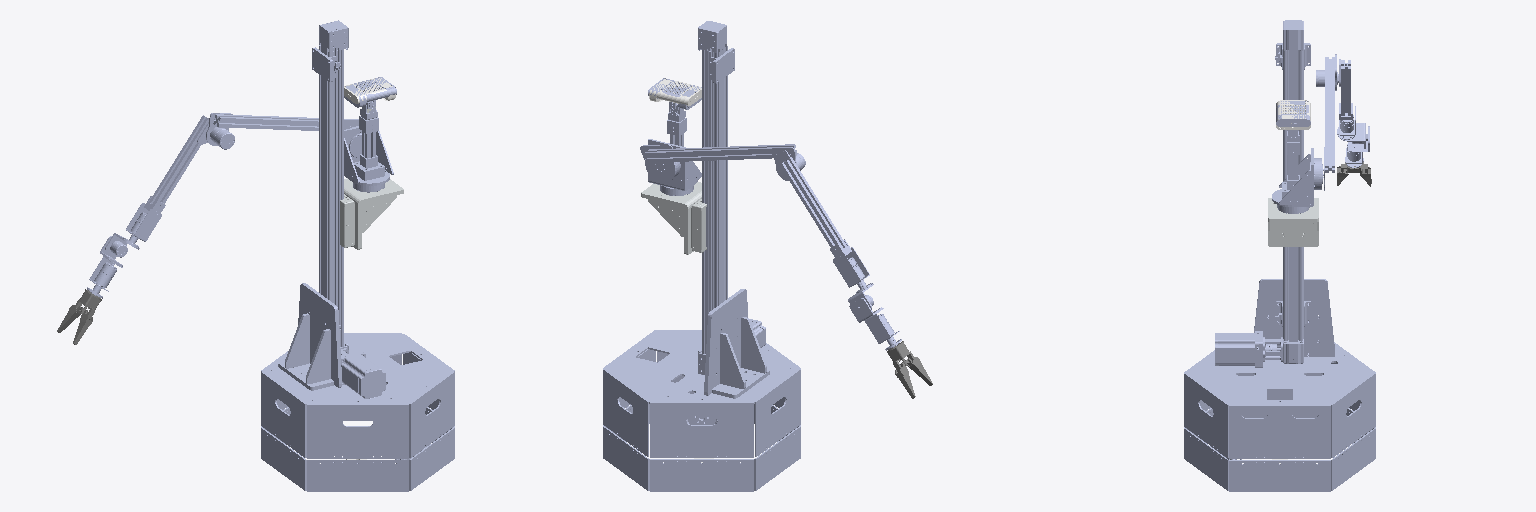
The robot description file, URDF, robot "xm":
<?xml version="1.0" encoding="utf-8"?>
<!-- This URDF was automatically created by SolidWorks to URDF Exporter! Originally created by [author] ([email redacted]) 
     Commit Version: 1.6.0-4-g7f85cfe  Build Version: 1.6.7995.38578
     For more information, please see http://wiki.ros.org/sw_urdf_exporter -->
<robot
  name="xm">
  <link
    name="base_footprint">
    <inertial>
      <origin
        xyz="-5.01303152785115E-18 7.7680154628044E-17 0.0125"
        rpy="0 0 0" />
      <mass
        value="0.0580821353308894" />
      <inertia
        ixx="1.59838183265745E-05"
        ixy="2.02872876666417E-21"
        ixz="4.11954387621188E-21"
        iyy="1.59838183265745E-05"
        iyz="1.27122246921669E-21"
        izz="2.5917414222848E-05" />
    </inertial>
    <visual>
      <origin
        xyz="0 0 0"
        rpy="0 0 0" />
      <geometry>
        <mesh
          filename="package://xm/meshes/base_footprint.STL" />
      </geometry>
      <material
        name="">
        <color
          rgba="1 1 1 1" />
      </material>
    </visual>
    <collision>
      <origin
        xyz="0 0 0"
        rpy="0 0 0" />
      <geometry>
        <mesh
          filename="package://xm/meshes/base_footprint.STL" />
      </geometry>
    </collision>
  </link>
  <link
    name="base_link">
    <inertial>
      <origin
        xyz="-0.0472990780841658 0.00149970063054384 0.389481124264068"
        rpy="0 0 0" />
      <mass
        value="20.4085866375092" />
      <inertia
        ixx="0.532150836421131"
        ixy="-0.000215444412448699"
        ixz="-0.000167302292495627"
        iyy="0.520347966012744"
        iyz="-5.41814451197991E-05"
        izz="0.0912444992532894" />
    </inertial>
    <visual>
      <origin
        xyz="0 0 0"
        rpy="0 0 0" />
      <geometry>
        <mesh
          filename="package://xm/meshes/base_link.STL" />
      </geometry>
      <material
        name="">
        <color
          rgba="0.792156862745098 0.819607843137255 0.933333333333333 1" />
      </material>
    </visual>
    <collision>
      <origin
        xyz="0 0 0"
        rpy="0 0 0" />
      <geometry>
        <mesh
          filename="package://xm/meshes/base_link.STL" />
      </geometry>
    </collision>
  </link>
  <joint
    name="Joint_base"
    type="fixed">
    <origin
      xyz="0 0 0.1072"
      rpy="0 0 0" />
    <parent
      link="base_footprint" />
    <child
      link="base_link" />
    <axis
      xyz="0 0 0" />
  </joint>
  <link
    name="camera_link">
    <inertial>
      <origin
        xyz="-0.000613033670759142 1.66444834874616E-05 0.0388070563329279"
        rpy="0 0 0" />
      <mass
        value="0.139637392959197" />
      <inertia
        ixx="0.000155562292282568"
        ixy="1.00340561932936E-07"
        ixz="5.24915196445147E-06"
        iyy="0.000170557108366225"
        iyz="-2.47432288257118E-08"
        izz="0.00029782380105245" />
    </inertial>
    <visual>
      <origin
        xyz="0 0 0"
        rpy="0 0 0" />
      <geometry>
        <mesh
          filename="package://xm/meshes/camera_link.STL" />
      </geometry>
      <material
        name="">
        <color
          rgba="1 1 1 1" />
      </material>
    </visual>
    <collision>
      <origin
        xyz="0 0 0"
        rpy="0 0 0" />
      <geometry>
        <mesh
          filename="package://xm/meshes/camera_link.STL" />
      </geometry>
    </collision>
  </link>
  <joint
    name="camera_joint"
    type="fixed">
    <origin
      xyz="0.0587580646472571 0.0400000002558185 1.03774998426436"
      rpy="0 0 0" />
    <parent
      link="base_link" />
    <child
      link="camera_link" />
    <axis
      xyz="0 0 0" />
  </joint>
  <link
    name="lift_link">
    <inertial>
      <origin
        xyz="0.0166996329019968 -1.86426624723401E-05 -0.0174470051490163"
        rpy="0 0 0" />
      <mass
        value="2.62405552037634" />
      <inertia
        ixx="0.00900096288286579"
        ixy="-4.0745611018335E-07"
        ixz="0.00197504590342764"
        iyy="0.00823583995903269"
        iyz="-2.14600844721825E-09"
        izz="0.00769632084461953" />
    </inertial>
    <visual>
      <origin
        xyz="0 0 0"
        rpy="0 0 0" />
      <geometry>
        <mesh
          filename="package://xm/meshes/lift_link.STL" />
      </geometry>
      <material
        name="">
        <color
          rgba="0.898039215686275 0.917647058823529 0.929411764705882 1" />
      </material>
    </visual>
    <collision>
      <origin
        xyz="0 0 0"
        rpy="0 0 0" />
      <geometry>
        <mesh
          filename="package://xm/meshes/lift_link.STL" />
      </geometry>
    </collision>
  </link>
  <joint
    name="lift_joint"
    type="fixed">
    <origin
      xyz="-0.019992 0.04 0.6925"
      rpy="3.1416 0 0" />
    <parent
      link="base_link" />
    <child
      link="lift_link" />
    <axis
      xyz="0 0 0" />
    <limit
      lower="0"
      upper="0.5"
      effort="5"
      velocity="5" />
    <safety_controller
      soft_upper_limit="0.45"
      soft_lower_limit="0.05"
      k_position="4"
      k_velocity="4" />
  </joint>
  <link
    name="arm_link_0">
    <inertial>
      <origin
        xyz="-0.0661556834355019 -0.00768851967436393 0.00754751870793105"
        rpy="0 0 0" />
      <mass
        value="1.52735464232604" />
      <inertia
        ixx="0.00213619011822384"
        ixy="-0.000360094168012959"
        ixz="0.000352749174453431"
        iyy="0.00325502703246209"
        iyz="4.56677052241482E-05"
        izz="0.00325404182475431" />
    </inertial>
    <visual>
      <origin
        xyz="0 0 0"
        rpy="0 0 0" />
      <geometry>
        <mesh
          filename="package://xm/meshes/arm_link_0.STL" />
      </geometry>
      <material
        name="">
        <color
          rgba="0.792156862745098 0.819607843137255 0.933333333333333 1" />
      </material>
    </visual>
    <collision>
      <origin
        xyz="0 0 0"
        rpy="0 0 0" />
      <geometry>
        <mesh
          filename="package://xm/meshes/arm_link_0.STL" />
      </geometry>
    </collision>
  </link>
  <joint
    name="arm_joint_0"
    type="revolute">
    <origin
      xyz="0.08 0 -0.117"
      rpy="0.7854 -1.5708 0" />
    <parent
      link="lift_link" />
    <child
      link="arm_link_0" />
    <axis
      xyz="-1 0 0" />
    <limit
      lower="-3"
      upper="3"
      effort="2"
      velocity="2" />
    <safety_controller
      soft_upper_limit="2"
      soft_lower_limit="-2"
      k_position="1.5"
      k_velocity="1.5" />
  </joint>
  <link
    name="arm_link_1">
    <inertial>
      <origin
        xyz="-0.107871746128406 -0.037289461090509 -0.141817185724227"
        rpy="0 0 0" />
      <mass
        value="1.20863497753295" />
      <inertia
        ixx="0.00950495567246716"
        ixy="-0.00352630615151087"
        ixz="-0.00770159363469471"
        iyy="0.0157202376709037"
        iyz="-0.00326292633671662"
        izz="0.009815375563553" />
    </inertial>
    <visual>
      <origin
        xyz="0 0 0"
        rpy="0 0 0" />
      <geometry>
        <mesh
          filename="package://xm/meshes/arm_link_1.STL" />
      </geometry>
      <material
        name="">
        <color
          rgba="0.792156862745098 0.819607843137255 0.933333333333333 1" />
      </material>
    </visual>
    <collision>
      <origin
        xyz="0 0 0"
        rpy="0 0 0" />
      <geometry>
        <mesh
          filename="package://xm/meshes/arm_link_1.STL" />
      </geometry>
    </collision>
  </link>
  <joint
    name="arm_joint_1"
    type="revolute">
    <origin
      xyz="-0.072 -0.062932 0.062932"
      rpy="-2.3562 0 -1.5708" />
    <parent
      link="arm_link_0" />
    <child
      link="arm_link_1" />
    <axis
      xyz="0.70711 -0.5 -0.5" />
    <limit
      lower="-3"
      upper="3"
      effort="2"
      velocity="2" />
    <safety_controller
      soft_upper_limit="2"
      soft_lower_limit="-2"
      k_position="1.5"
      k_velocity="1.5" />
  </joint>
  <link
    name="arm_link_2">
    <inertial>
      <origin
        xyz="0.080640610832623 0.0359167868346542 -0.186608227563525"
        rpy="0 0 0" />
      <mass
        value="0.889920446723525" />
      <inertia
        ixx="0.00306878478064474"
        ixy="-0.000537670934862805"
        ixz="0.00119190161784752"
        iyy="0.00324285219872319"
        iyz="0.00102314039810489"
        izz="0.0013519195123339" />
    </inertial>
    <visual>
      <origin
        xyz="0 0 0"
        rpy="0 0 0" />
      <geometry>
        <mesh
          filename="package://xm/meshes/arm_link_2.STL" />
      </geometry>
      <material
        name="">
        <color
          rgba="0.792156862745098 0.819607843137255 0.933333333333333 1" />
      </material>
    </visual>
    <collision>
      <origin
        xyz="0 0 0"
        rpy="0 0 0" />
      <geometry>
        <mesh
          filename="package://xm/meshes/arm_link_2.STL" />
      </geometry>
    </collision>
  </link>
  <joint
    name="arm_joint_2"
    type="revolute">
    <origin
      xyz="-0.28513 -0.15959 -0.31365"
      rpy="1.4399 0 -3.1416" />
    <parent
      link="arm_link_1" />
    <child
      link="arm_link_2" />
    <axis
      xyz="0.70711 0.43046 0.56099" />
    <limit
      lower="-3"
      upper="3"
      effort="2"
      velocity="2" />
    <safety_controller
      soft_upper_limit="2"
      soft_lower_limit="-2"
      k_position="1.5"
      k_velocity="1.5" />
  </joint>
  <link
    name="arm_link_3">
    <inertial>
      <origin
        xyz="-0.0339517501981026 -0.0252096137093817 0.0679428725596435"
        rpy="0 0 0" />
      <mass
        value="0.29558005917924" />
      <inertia
        ixx="0.000132942217515562"
        ixy="-5.70555438986794E-06"
        ixz="1.38732369861725E-05"
        iyy="0.000146048093218297"
        iyz="1.15118038110272E-05"
        izz="0.000112617020649506" />
    </inertial>
    <visual>
      <origin
        xyz="0 0 0"
        rpy="0 0 0" />
      <geometry>
        <mesh
          filename="package://xm/meshes/arm_link_3.STL" />
      </geometry>
      <material
        name="">
        <color
          rgba="0.792156862745098 0.819607843137255 0.933333333333333 1" />
      </material>
    </visual>
    <collision>
      <origin
        xyz="0 0 0"
        rpy="0 0 0" />
      <geometry>
        <mesh
          filename="package://xm/meshes/arm_link_3.STL" />
      </geometry>
    </collision>
  </link>
  <joint
    name="arm_joint_3"
    type="revolute">
    <origin
      xyz="0.135996073141798 0.0913823183212916 -0.42165160184154"
      rpy="-2.40473621146806 -0.271465248643801 -1.28344886352556" />
    <parent
      link="arm_link_2" />
    <child
      link="arm_link_3" />
    <axis
      xyz="0.0542061815531245 0.993979157068702 -0.0952214534357814" />
    <limit
      lower="-3"
      upper="3"
      effort="2"
      velocity="2" />
    <safety_controller
      soft_upper_limit="2"
      soft_lower_limit="-2"
      k_position="1.5"
      k_velocity="1.5" />
  </joint>
  <link
    name="gripper_link">
    <inertial>
      <origin
        xyz="-0.058033053761384 -0.805876386286234 1.51103933319899"
        rpy="0 0 0" />
      <mass
        value="0.147715445260866" />
      <inertia
        ixx="4.51022643369936E-05"
        ixy="6.01894063962106E-06"
        ixz="-2.63327232393266E-07"
        iyy="5.04133642870796E-05"
        iyz="-3.46775142467046E-06"
        izz="3.90027739070046E-05" />
    </inertial>
    <visual>
      <origin
        xyz="0 0 0"
        rpy="0 0 0" />
      <geometry>
        <mesh
          filename="package://xm/meshes/gripper_link.STL" />
      </geometry>
      <material
        name="">
        <color
          rgba="0.564705882352941 0.564705882352941 0.564705882352941 1" />
      </material>
    </visual>
    <collision>
      <origin
        xyz="0 0 0"
        rpy="0 0 0" />
      <geometry>
        <mesh
          filename="package://xm/meshes/gripper_link.STL" />
      </geometry>
    </collision>
  </link>
  <joint
    name="gripper_joint"
    type="fixed">
    <origin
      xyz="-0.536737944213674 -1.05633041703942 -1.10661285955502"
      rpy="0 0.584432991607722 1.9634954084936" />
    <parent
      link="arm_link_3" />
    <child
      link="gripper_link" />
    <axis
      xyz="0 0 0" />
  </joint>
</robot>

--- Render facts (derived) ---
3 views of the same robot in one strip: view 1: azimuth 30°, elevation 25°; view 2: azimuth 150°, elevation 25°; view 3: azimuth 270°, elevation 25° (orthographic).
Robot: xm — 9 links, 8 joints (4 revolute, 4 fixed); root link base_footprint; default pose: every joint at zero.
Visible links, largest first — view 1: base_link, arm_link_0, arm_link_2, lift_link, arm_link_1, arm_link_3, gripper_link; view 2: base_link, arm_link_2, arm_link_1, lift_link, arm_link_0, arm_link_3, gripper_link, camera_link; view 3: base_link, arm_link_0, lift_link, arm_link_1, arm_link_2, arm_link_3.
Boxes of the visible links, x1,y1,x2,y2 form: base_link: (261, 20, 454, 491); arm_link_0: (344, 77, 396, 192); arm_link_2: (105, 115, 234, 256); lift_link: (340, 107, 403, 249); arm_link_1: (206, 113, 361, 157); arm_link_3: (87, 236, 127, 298); gripper_link: (57, 289, 101, 344); base_link: (603, 21, 800, 491); arm_link_2: (777, 150, 873, 309); arm_link_1: (640, 144, 798, 182); lift_link: (641, 182, 706, 254); arm_link_0: (648, 78, 701, 195); arm_link_3: (849, 295, 901, 350); gripper_link: (887, 341, 932, 398); camera_link: (649, 79, 701, 105); base_link: (1184, 20, 1375, 491); arm_link_0: (1272, 101, 1313, 213); lift_link: (1268, 198, 1318, 246); arm_link_1: (1310, 54, 1336, 190); arm_link_2: (1316, 59, 1365, 148); arm_link_3: (1345, 126, 1369, 167).
Size in the robot's own frame: 1.1 by 0.5679 by 1.42 metres.
Meshes: 9 distinct files referenced, 9 mesh visuals loaded (9 binary STL).
